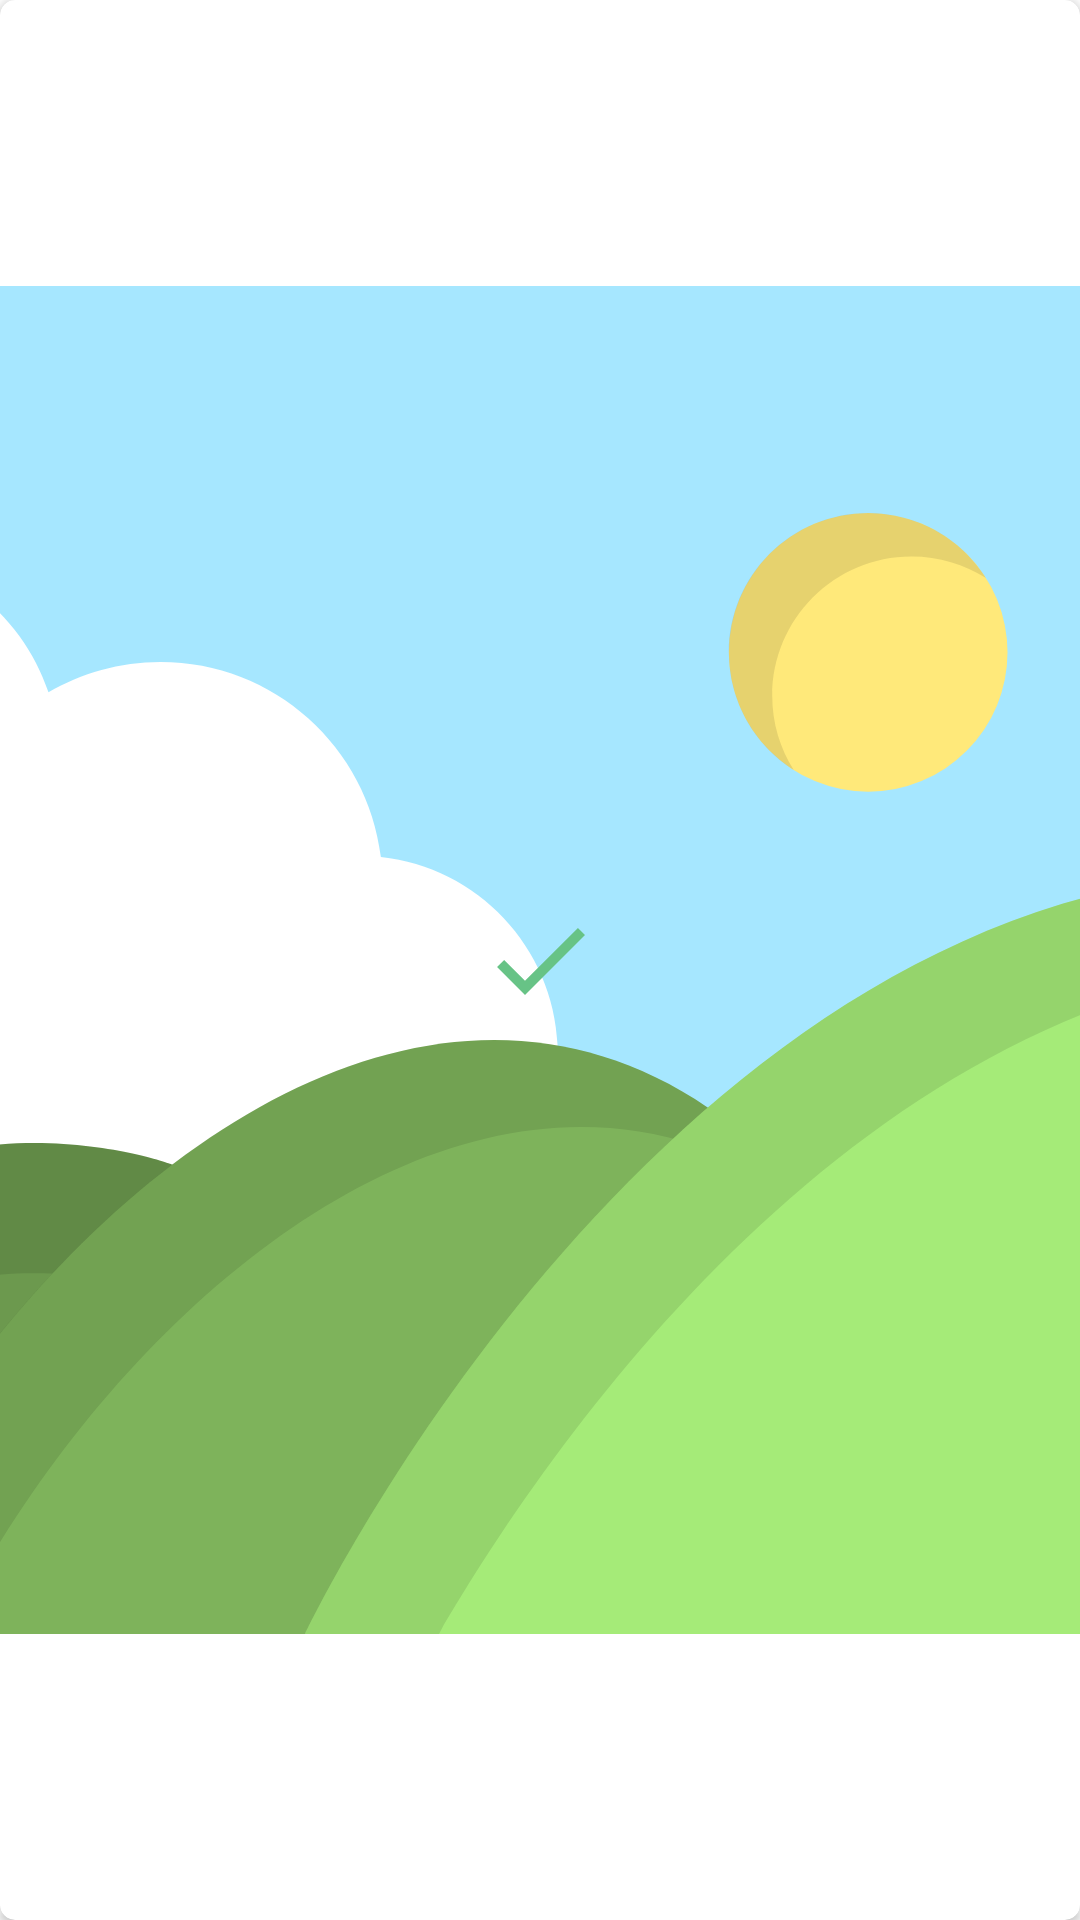

Icons on this 1080px x 1920px Android screen, each with the point to tap as point (x, y):
tick: point (540, 960)
